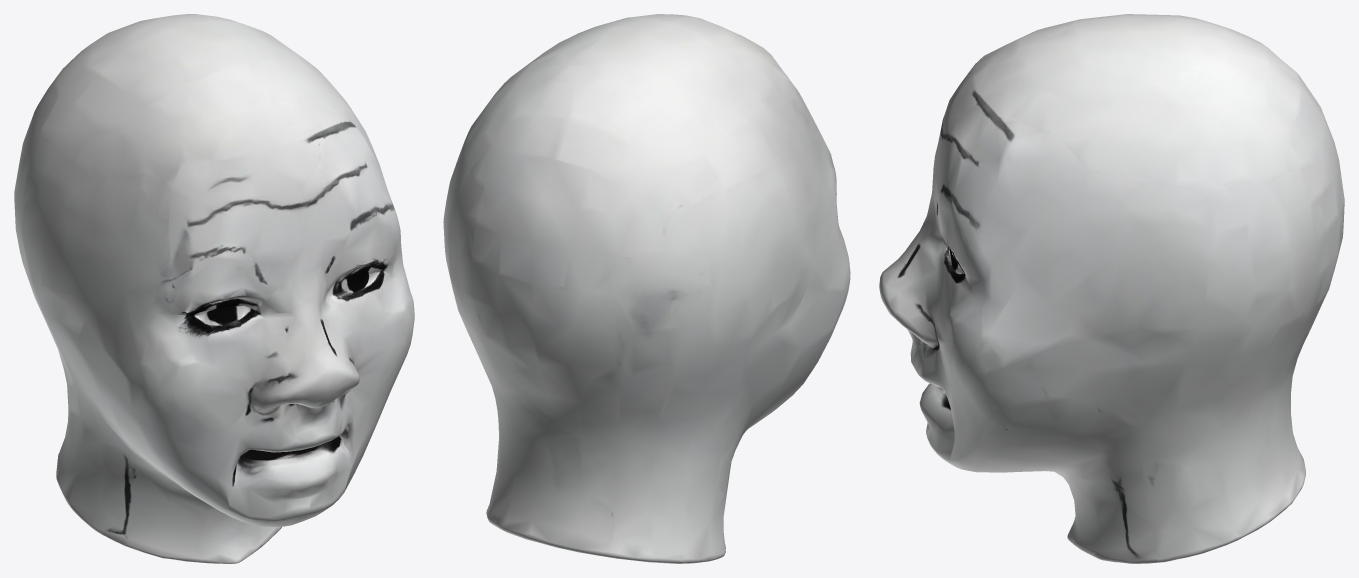
Rendered from wojak-optimized.glb.
3 views of the same model, side by side, from view 1: azimuth 30°, elevation 25°; view 2: azimuth 150°, elevation 25°; view 3: azimuth 270°, elevation 25° (orthographic).
Parts seen in each view (by area): view 1: model; view 2: model; view 3: model.
Boxes of the visible parts, x1,y1,x2,y2 form: model: [14, 14, 414, 563]; model: [443, 14, 850, 563]; model: [879, 14, 1344, 563].
Size of the model in its own units: 1.19 by 1.9 by 1.57.
1 material, 1 textured.
